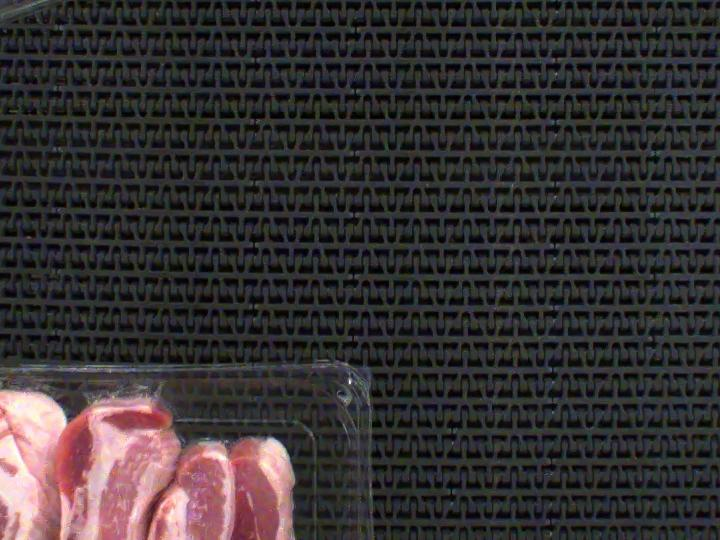packaging-error: (81, 376, 177, 409), (0, 367, 65, 403)
